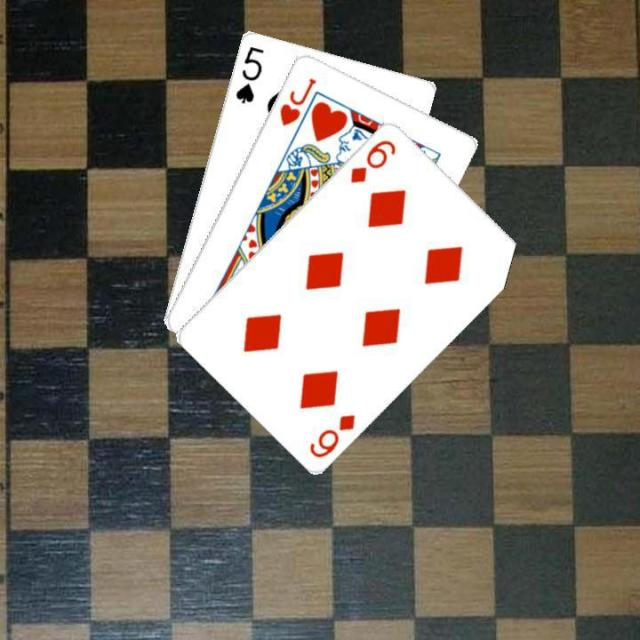5S: (231, 42, 265, 105)
6D: (305, 410, 357, 460), (346, 135, 397, 185)
JH: (275, 73, 318, 127)
